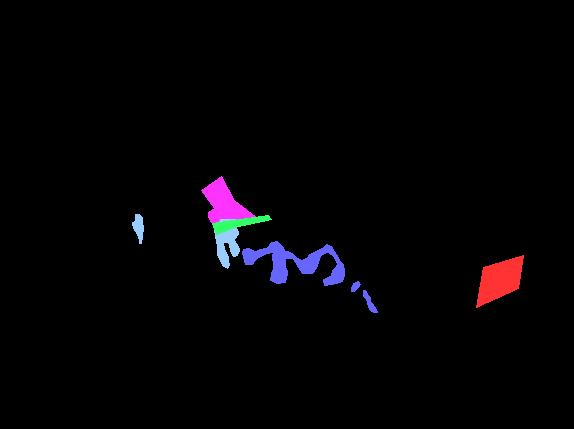Broken part: (212, 215, 271, 234)
Corrosion: (214, 219, 239, 268), (132, 214, 143, 243)
Dent: (201, 176, 256, 226)
Missing part: (476, 255, 523, 307)
Scratch: (242, 241, 344, 285), (363, 290, 377, 312), (351, 281, 360, 291)
